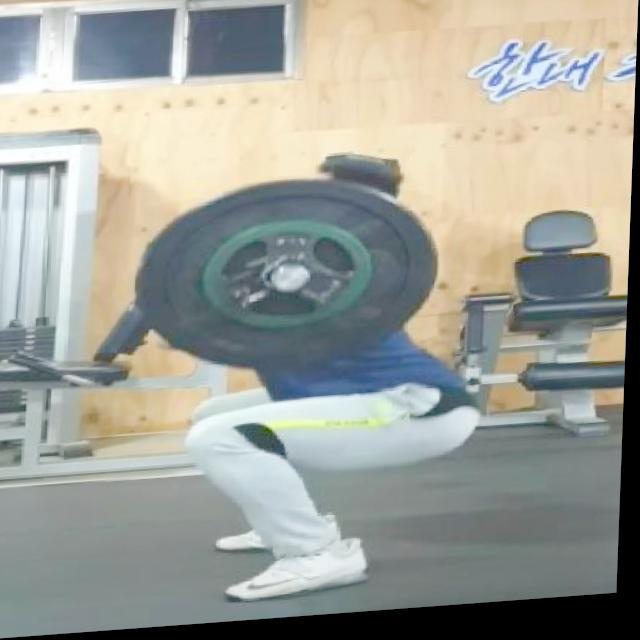barbell: (130, 168, 448, 386)
